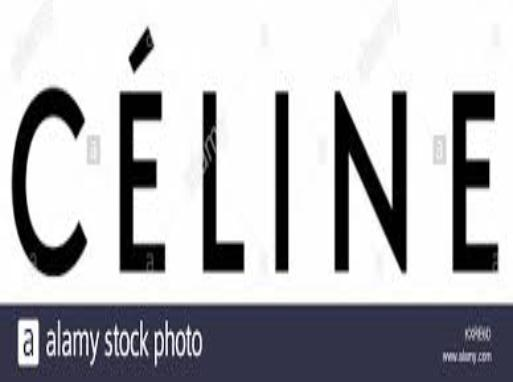CELINE: (5, 11, 501, 293)
